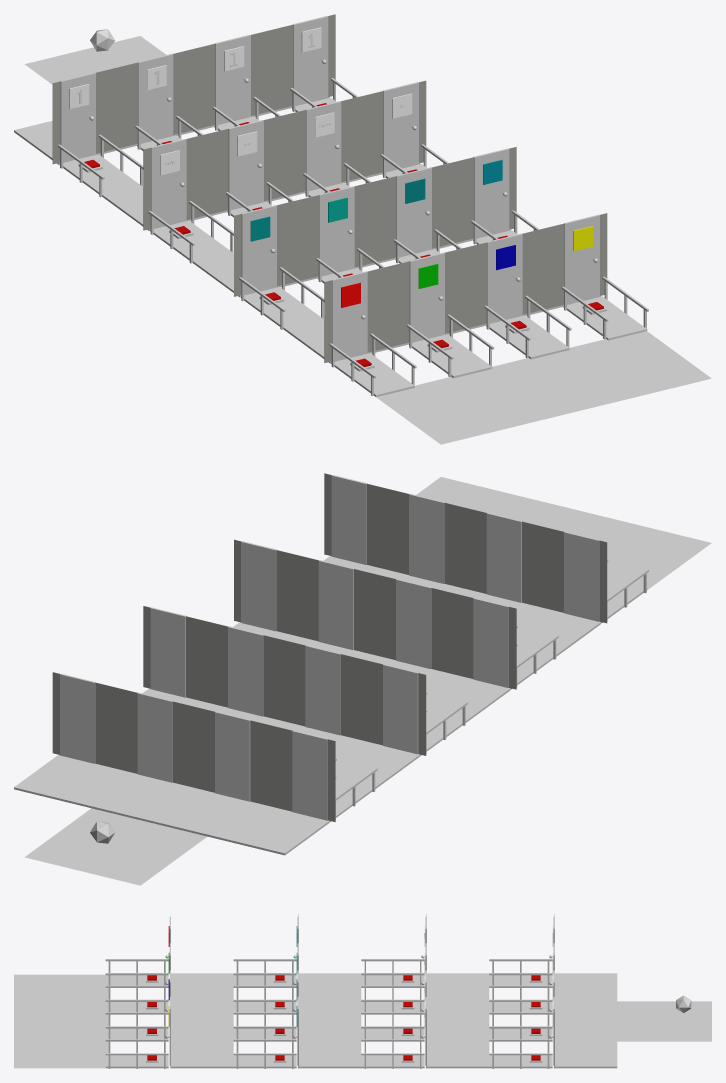
Rendered from doors.fbx.
3 views of the same model, one above another, from view 1: azimuth 30°, elevation 25°; view 2: azimuth 150°, elevation 25°; view 3: azimuth 270°, elevation 25° (orthographic). The views are drawn at different scales.
Parts seen in each view (by area): view 1: start, Cube_28, Cube_10_3, Cube_10_2, Cube_9_12, Cube_10_5, Cube_9, Cube_9_7, Cube_19, Cube_9_17, Cube, Cube_10_4 (+32 smaller); view 2: NextLevel, start, end, NextLevel_4, NextLevel_2, NextLevel_3, Cube_10, Cube, Cube_9_7, Cube_9_17, Cube_9, Cube_10_4 (+33 smaller); view 3: start, NextLevel_4, NextLevel, NextLevel_2, NextLevel_3, end, Cube_16, Cube_7_4, Cube_25, Cube_34, Cube_17, Cube_8_5 (+10 smaller).
Part boxes in pixels (x1,y1,x2,y2): start: [376, 331, 711, 444]; Cube_28: [367, 261, 409, 352]; Cube_10_3: [186, 128, 228, 219]; Cube_10_2: [341, 91, 383, 182]; Cube_9_12: [354, 176, 396, 267]; Cube_10_5: [522, 223, 564, 314]; Cube_9: [173, 43, 215, 134]; Cube_9_7: [263, 110, 306, 201]; Cube_19: [277, 195, 319, 286]; Cube_9_17: [445, 242, 487, 333]; Cube: [95, 62, 138, 153]; Cube_10_4: [431, 157, 473, 248]; NextLevel: [14, 754, 329, 855]; start: [416, 477, 711, 589]; end: [25, 808, 206, 885]; NextLevel_4: [323, 556, 601, 656]; NextLevel_2: [142, 688, 420, 788]; NextLevel_3: [233, 622, 510, 722]; Cube_10: [95, 682, 137, 773]; Cube: [250, 720, 292, 811]; Cube_9_7: [263, 635, 305, 726]; Cube_9_17: [444, 502, 486, 593]; Cube_9: [172, 701, 215, 792]; Cube_10_4: [276, 550, 318, 641]; start: [14, 974, 108, 1068]; NextLevel_4: [170, 973, 233, 1068]; NextLevel: [554, 973, 617, 1068]; NextLevel_2: [426, 973, 489, 1068]; NextLevel_3: [298, 973, 361, 1068]; end: [617, 1001, 711, 1041]; Cube_16: [361, 1055, 424, 1068]; Cube_7_4: [489, 1055, 552, 1068]; Cube_25: [233, 1055, 296, 1068]; Cube_34: [105, 1055, 168, 1068]; Cube_17: [361, 1028, 424, 1041]; Cube_8_5: [489, 1028, 552, 1041].
Size of the model in its own units: 1460 by 410 by 4420.
